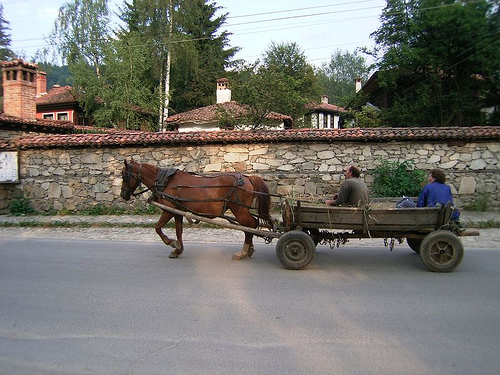horse: (120, 156, 273, 260)
